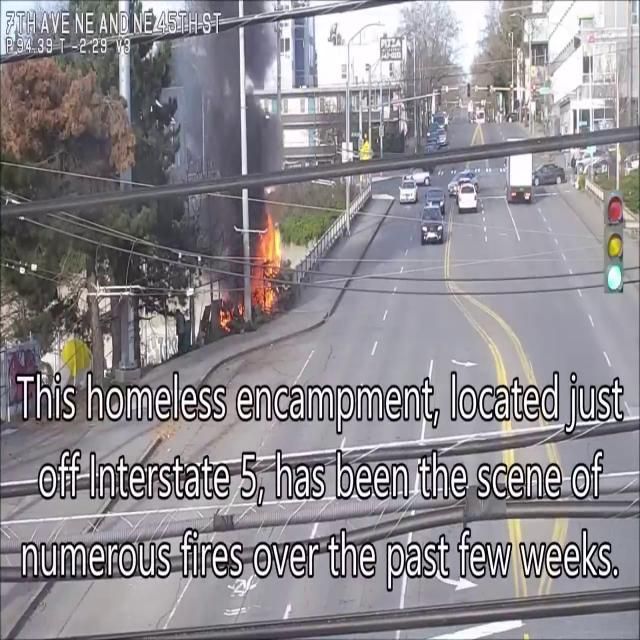Fire: (253, 208, 284, 310)
Smoke: (168, 1, 286, 271)
